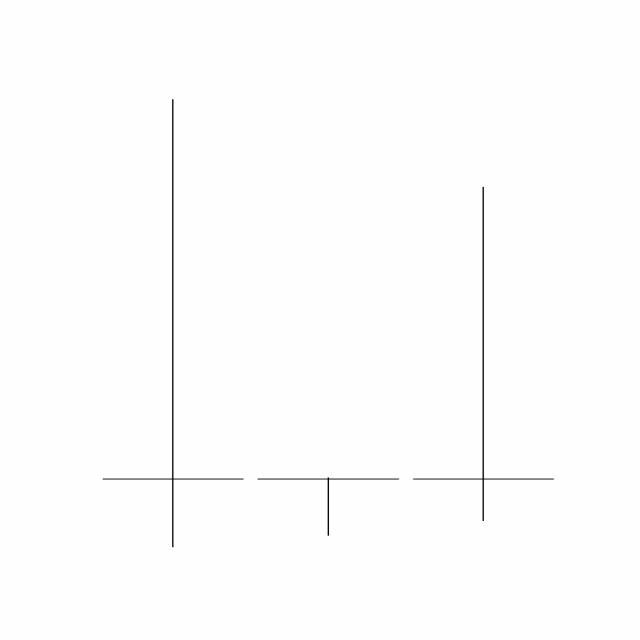Dragonfly Doji: (250, 477, 407, 538)
